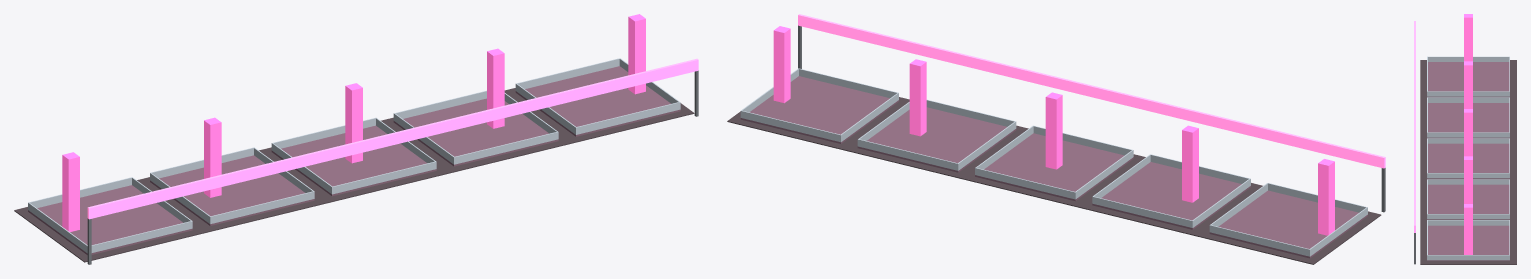
The model's file is pack-preventive-health-everyday-care.glb.
The picture shows the model from 3 angles, left to right: view 1: azimuth 30°, elevation 25°; view 2: azimuth 150°, elevation 25°; view 3: azimuth 270°, elevation 25°; orthographic projection. The views are drawn at different scales.
Parts seen in each view (by area): view 1: Preventive Health & Everyday Care; view 2: Preventive Health & Everyday Care; view 3: Preventive Health & Everyday Care.
Part boxes in pixels (x1=…): Preventive Health & Everyday Care: x1=14, y1=14, x2=698, y2=264; Preventive Health & Everyday Care: x1=727, y1=14, x2=1385, y2=264; Preventive Health & Everyday Care: x1=1414, y1=14, x2=1516, y2=264.
Bounding box in the file's own units: 70 × 8.3 × 14.9.
